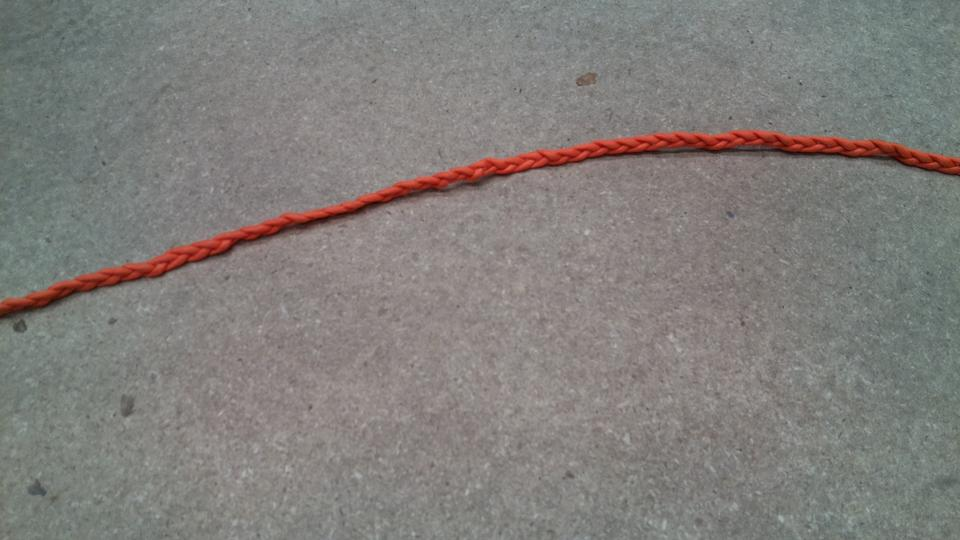rope: (1, 128, 956, 323)
